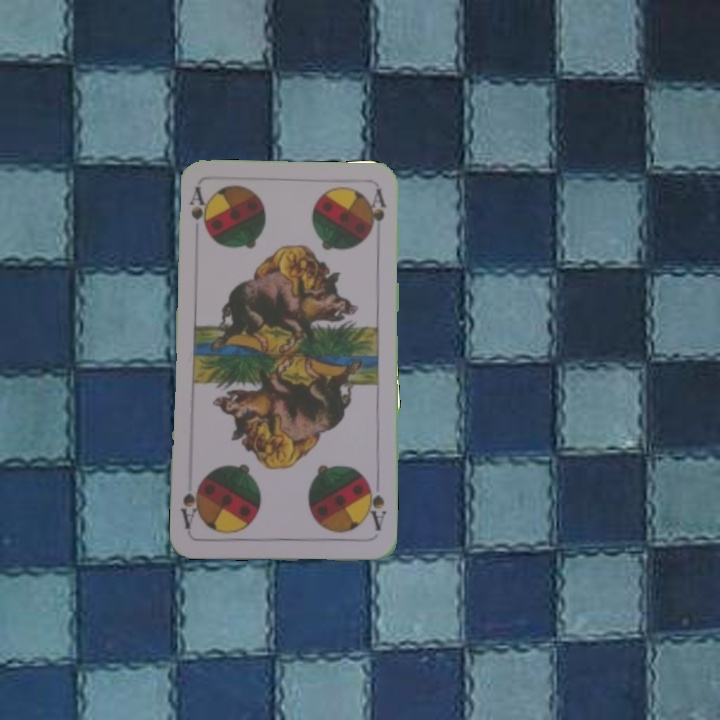SA: (362, 477, 389, 533), (185, 184, 210, 236)
